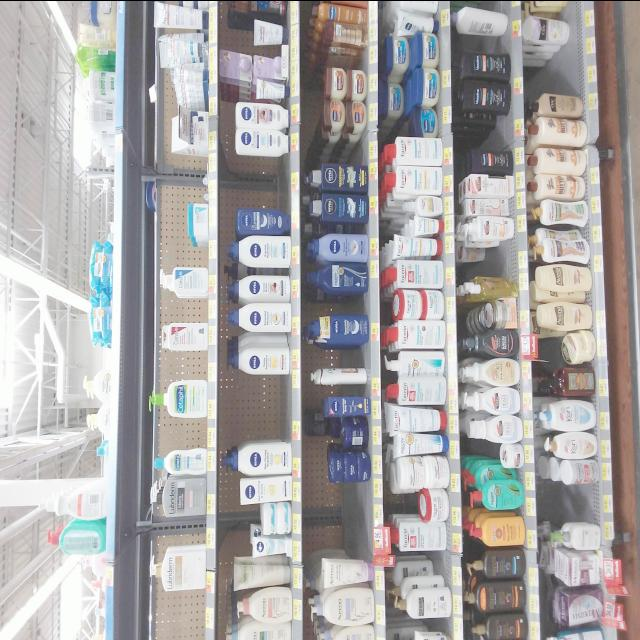empty_space: (314, 492, 366, 550), (237, 381, 287, 435), (245, 160, 287, 204), (157, 600, 202, 640), (545, 488, 587, 520), (538, 55, 578, 85)
